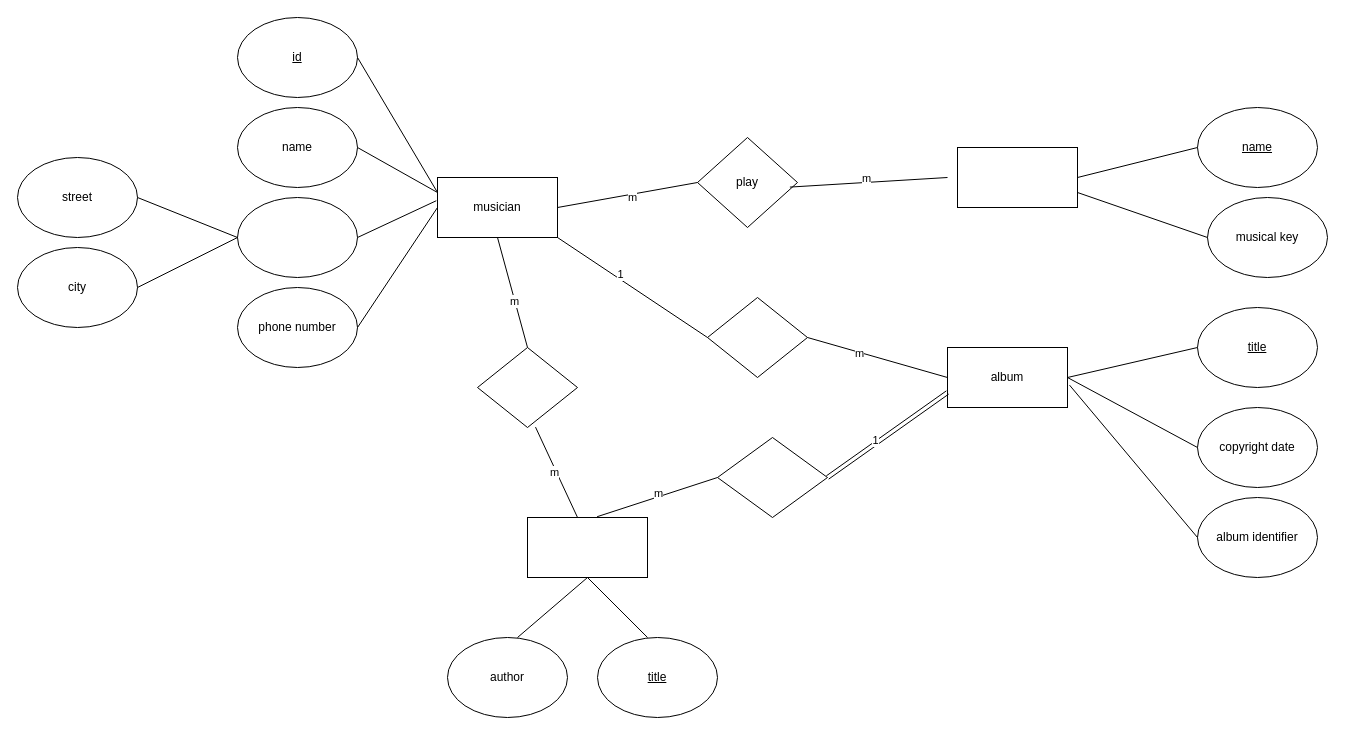
Image size: 1345x735. Some labels were removed from this diagram. Each missing label, with the box of its shape:
address: (236, 196, 358, 278)
appear: (716, 436, 828, 518)
instrument: (956, 146, 1078, 208)
perfome: (476, 346, 578, 428)
produce: (706, 296, 808, 378)
song: (526, 516, 648, 578)
